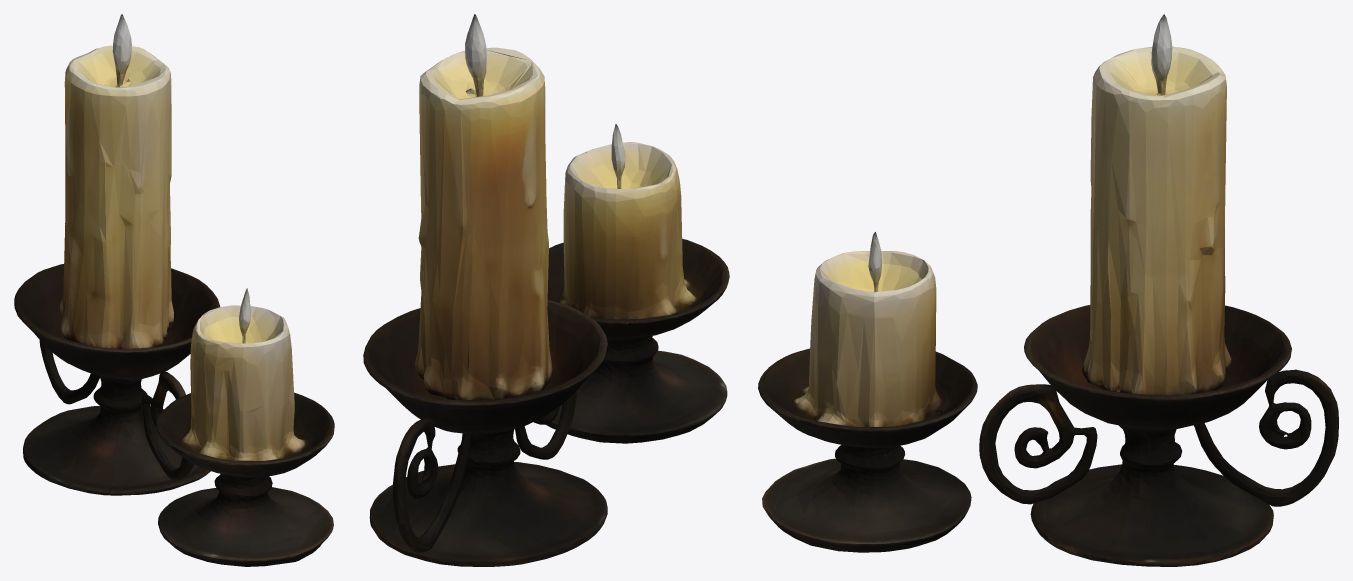
File: candles_pair_holders.glb
3 renders of one model, left to right at view 1: azimuth 30°, elevation 25°; view 2: azimuth 150°, elevation 25°; view 3: azimuth 270°, elevation 25°, orthographic. The views are drawn at different scales.
Parts seen in each view (by area): view 1: geometry_0; view 2: geometry_0; view 3: geometry_0.
Boxes of the visible parts, box(x1,y1,x2,y2) form: geometry_0: box(14, 14, 334, 566); geometry_0: box(363, 14, 729, 566); geometry_0: box(758, 14, 1338, 566).
Bounding box in the file's own units: 0.4096 × 0.9668 × 0.997.
1 material, 1 textured.
